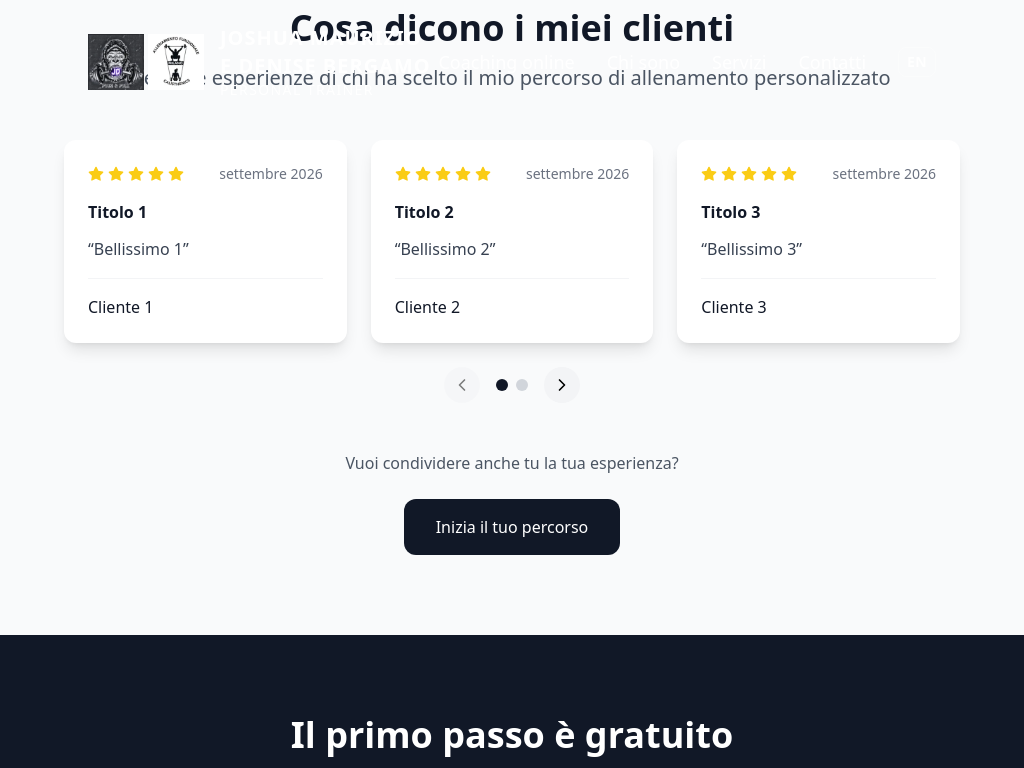
Test case: Home › shows featured reviews with paging
The width and height of the screenshot is (1024, 768).
(page scrolled)
Expected: the text "Cliente 1" is shown, [88, 278, 323, 319]
Expected: the text "Cliente 4" is not shown
Click the button named "Recensioni successive" at (562,385), box [544, 367, 580, 403]
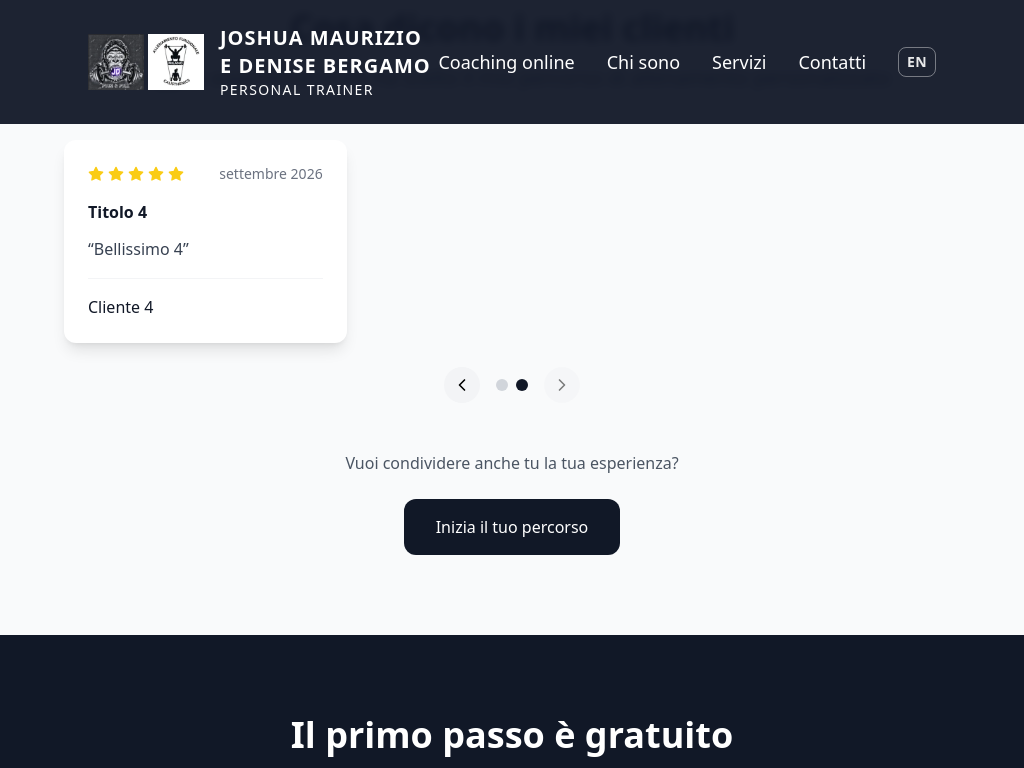
Now the text "Cliente 4" is shown, box [88, 278, 323, 319]
